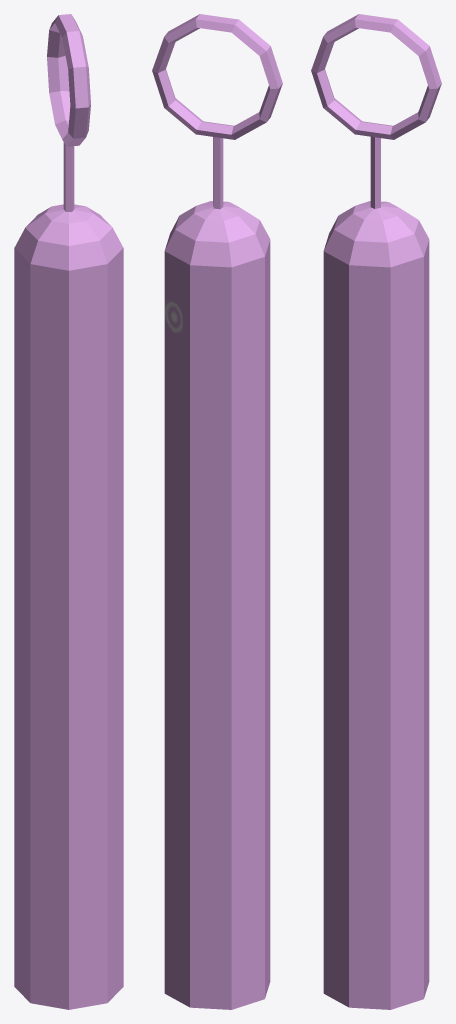
File: wala_building08.fbx
3 renders of one model, left to right at view 1: azimuth 90°, elevation 25°; view 2: azimuth 150°, elevation 25°; view 3: azimuth 330°, elevation 25°, orthographic.
Visible parts, largest first — view 1: polySurface1, polySurface3, polySurface2; view 2: polySurface1, polySurface3, polySurface2; view 3: polySurface1, polySurface3, polySurface2.
Boxes of the visible parts, x1,y1,x2,y2 form: polySurface1: (14, 204, 123, 1009); polySurface3: (47, 14, 90, 146); polySurface2: (63, 142, 74, 211); polySurface1: (164, 201, 270, 1009); polySurface3: (152, 14, 282, 139); polySurface2: (213, 137, 223, 209); polySurface1: (323, 201, 429, 1009); polySurface3: (311, 14, 441, 139); polySurface2: (370, 136, 380, 208).
Bounding box in the file's own units: 2.16 × 17.26 × 1.77.
